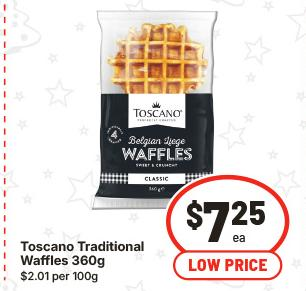description_block: (18, 233, 150, 268)
price_main: (169, 180, 284, 251)
product_image_block: (82, 8, 227, 215)
promo_text_block: (171, 250, 286, 278)
unit_price_block: (19, 267, 102, 288)
